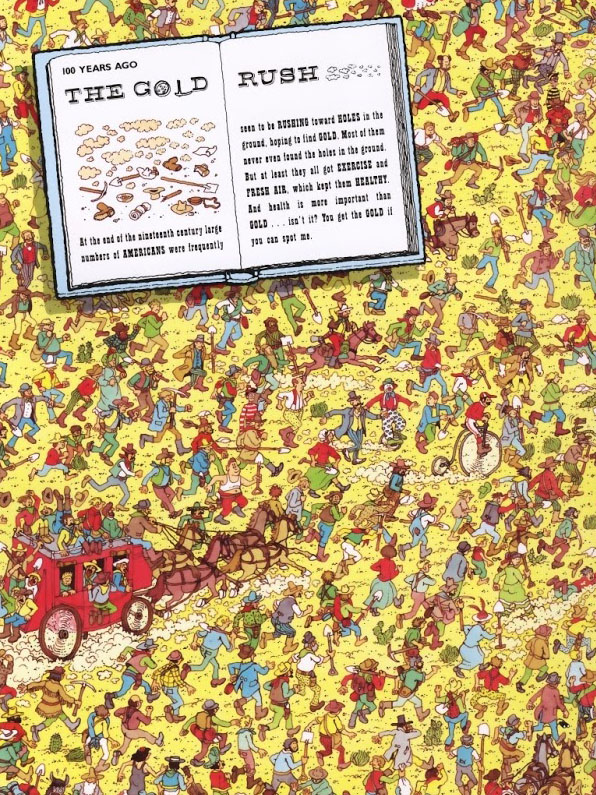waldo: (246, 384, 258, 405)
